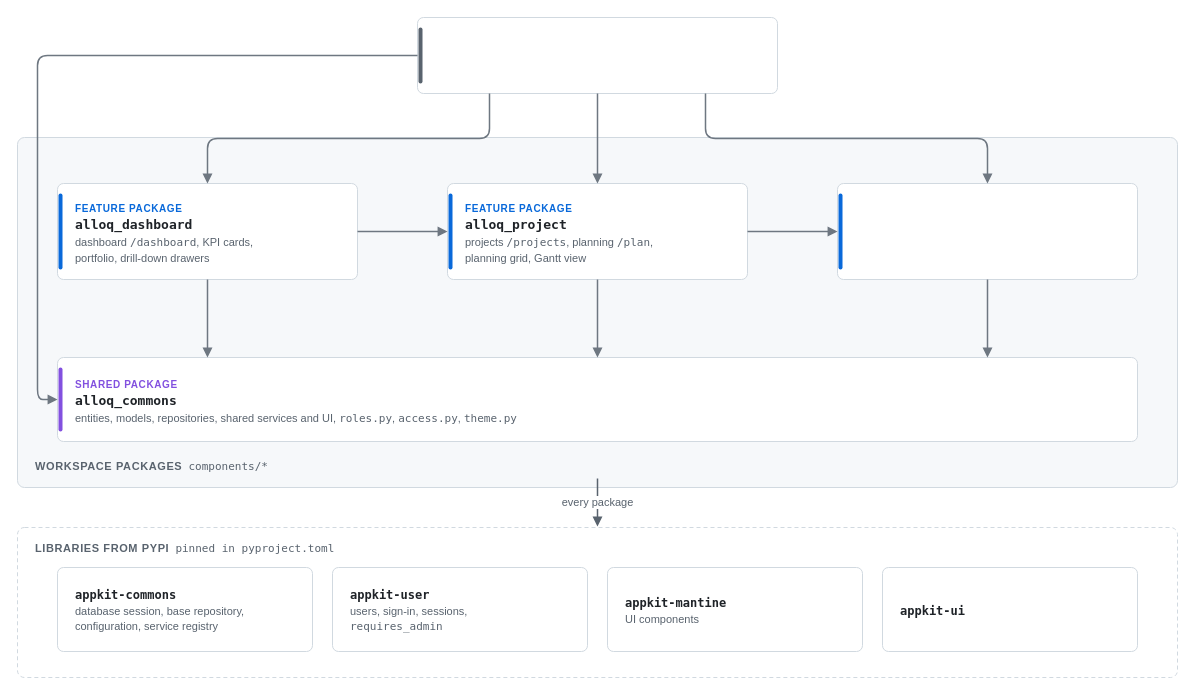
Image size: 1195x695. Some labels were removed from this diagram. Each missing label, with the box of its shape:
FEATURE PACKAGE alloq_team team /team , employee table, TeamState: (836, 182, 1138, 280)
HOST APP app entry point, admin pages, sidebar: (416, 16, 778, 94)
